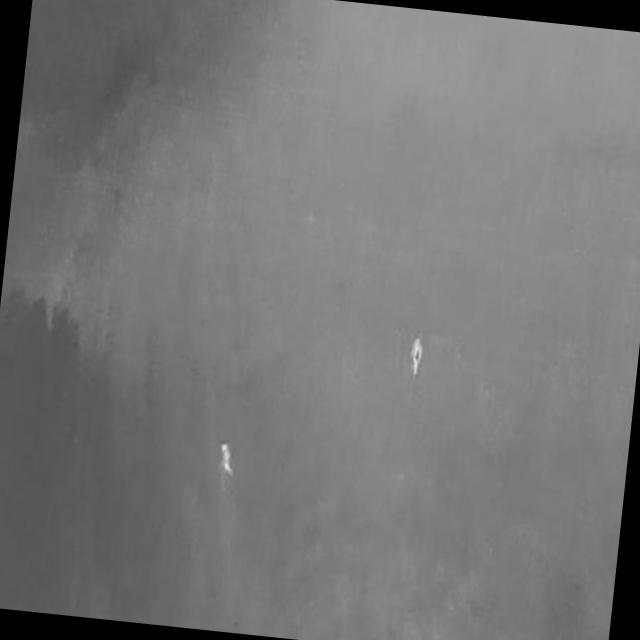person: (217, 437, 238, 479), (408, 336, 425, 376)
